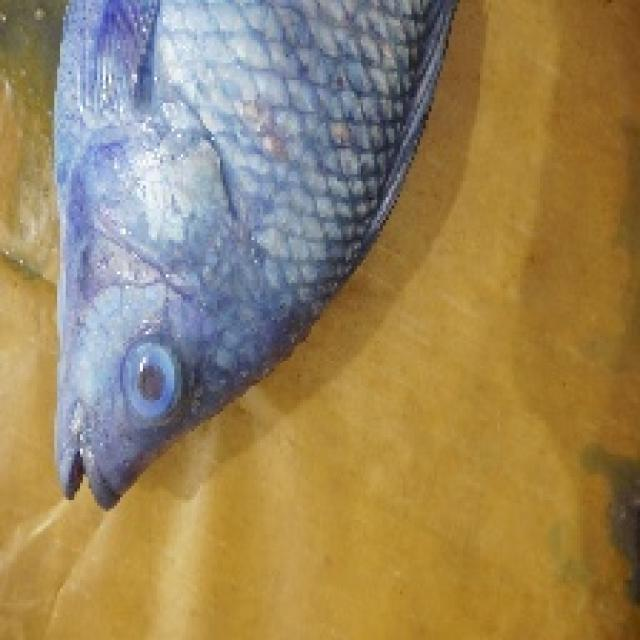Non-Fresh: (115, 324, 213, 435)
